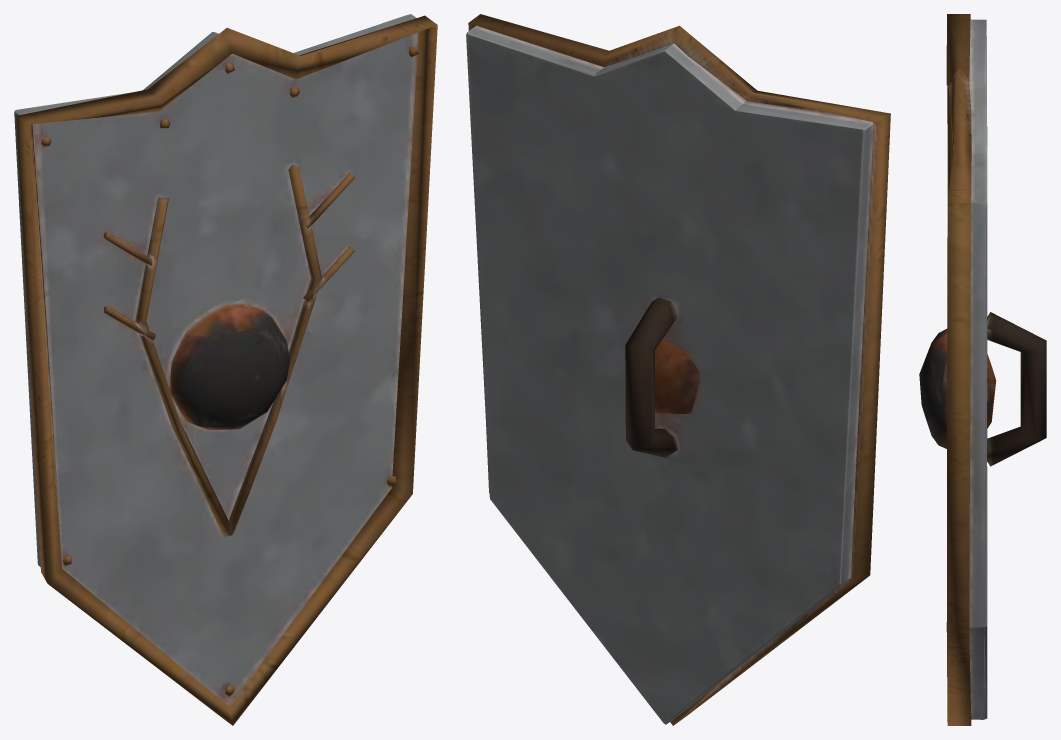
The model's file is eq_shield_3_lod1.glb.
3 renders of one model, left to right at view 1: azimuth 30°, elevation 25°; view 2: azimuth 150°, elevation 25°; view 3: azimuth 270°, elevation 25°, orthographic. The views are drawn at different scales.
Visible parts, largest first — view 1: eq_shield_3_lod1; view 2: eq_shield_3_lod1; view 3: eq_shield_3_lod1.
Part boxes in pixels (x1,y1,x2,y2): eq_shield_3_lod1: [14, 14, 437, 725]; eq_shield_3_lod1: [466, 14, 890, 725]; eq_shield_3_lod1: [919, 14, 1046, 725].
Size of the model in its own units: 0.6971 by 1.13 by 0.198.
Materials: 1 (1 with a texture image).
